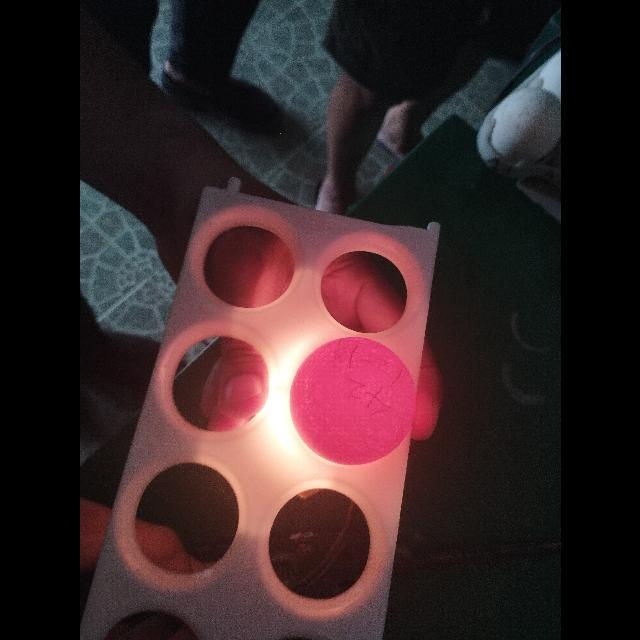Infertile: (302, 336, 414, 464)
